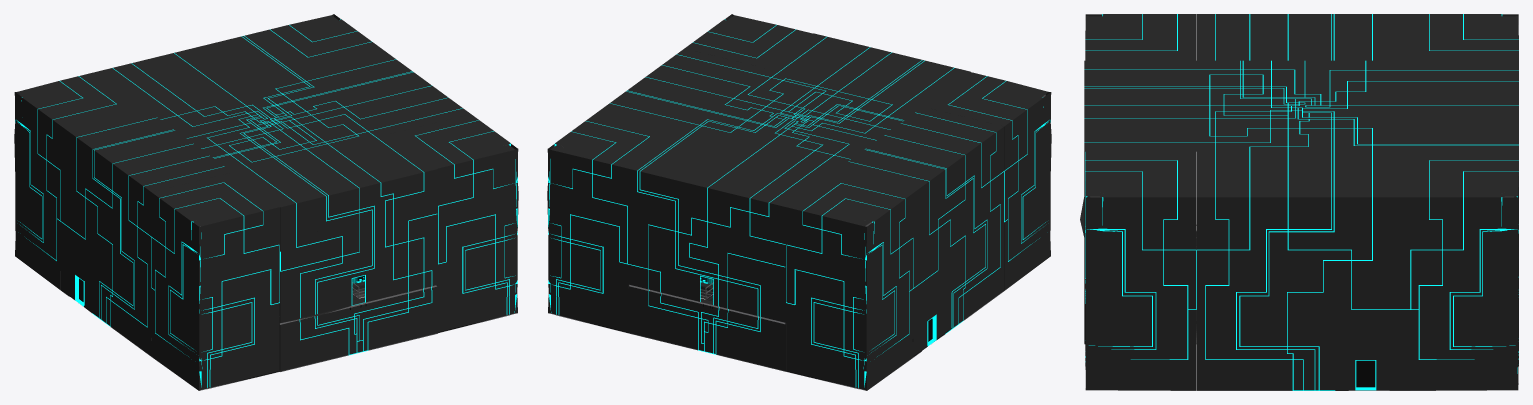
The model's file is level3.glb.
3 renders of one model, left to right at view 1: azimuth 30°, elevation 25°; view 2: azimuth 150°, elevation 25°; view 3: azimuth 270°, elevation 25°, orthographic. The views are drawn at different scales.
Visible parts, largest first — view 1: Reaktor_6:Mesh, Reaktor_1:Mesh_Reaktor_1:palette1_0.001, Reaktor_7:Mesh_Reaktor_7:palette1_0.001, Reaktor_1:Mesh_Reaktor_1:palette1_0.002, Reaktor_8:Mesh, Reaktor_1:Mesh_Reaktor_1:palette1_0.003, Reaktor_7:Mesh, Reaktor_9:Mesh, Reaktor_1:Mesh; view 2: Reaktor_9:Mesh, Reaktor_1:Mesh_Reaktor_1:palette1_0.003, Reaktor_7:Mesh_Reaktor_7:palette1_0.001, Reaktor_1:Mesh, Reaktor_8:Mesh, Reaktor_1:Mesh_Reaktor_1:palette1_0.001, Reaktor_6:Mesh, Reaktor_7:Mesh, Reaktor_1:Mesh_Reaktor_1:palette1_0.002; view 3: Reaktor_7:Mesh, Reaktor_1:Mesh_Reaktor_1:palette1_0.002, Reaktor_1:Mesh, Reaktor_8:Mesh, Reaktor_6:Mesh, Reaktor_7:Mesh_Reaktor_7:palette1_0.001, Reaktor_9:Mesh, Reaktor_1:Mesh_Reaktor_1:palette1_0.001, Reaktor_1:Mesh_Reaktor_1:palette1_0.003.
Boxes of the visible parts, box(x1,y1,x2,y2) form: Reaktor_6:Mesh: box(233, 134, 437, 371); Reaktor_1:Mesh_Reaktor_1:palette1_0.001: box(151, 172, 279, 390); Reaktor_7:Mesh_Reaktor_7:palette1_0.001: box(60, 106, 231, 356); Reaktor_1:Mesh_Reaktor_1:palette1_0.002: box(390, 114, 518, 333); Reaktor_8:Mesh: box(142, 67, 389, 287); Reaktor_1:Mesh_Reaktor_1:palette1_0.003: box(14, 72, 141, 289); Reaktor_7:Mesh: box(299, 47, 470, 133); Reaktor_9:Mesh: box(96, 33, 298, 222); Reaktor_1:Mesh: box(253, 14, 379, 67); Reaktor_9:Mesh: box(628, 135, 831, 371); Reaktor_1:Mesh_Reaktor_1:palette1_0.003: box(786, 173, 913, 390); Reaktor_7:Mesh_Reaktor_7:palette1_0.001: box(832, 107, 1003, 357); Reaktor_1:Mesh: box(547, 115, 673, 333); Reaktor_8:Mesh: box(675, 68, 922, 284); Reaktor_1:Mesh_Reaktor_1:palette1_0.001: box(923, 72, 1051, 290); Reaktor_6:Mesh: box(766, 33, 970, 106); Reaktor_7:Mesh: box(594, 48, 764, 134); Reaktor_1:Mesh_Reaktor_1:palette1_0.002: box(684, 14, 812, 68); Reaktor_7:Mesh: box(1197, 151, 1410, 390); Reaktor_1:Mesh_Reaktor_1:palette1_0.002: box(1085, 151, 1196, 390); Reaktor_1:Mesh: box(1410, 151, 1518, 390); Reaktor_8:Mesh: box(1197, 60, 1410, 150); Reaktor_6:Mesh: box(1080, 60, 1196, 344); Reaktor_7:Mesh_Reaktor_7:palette1_0.001: box(1197, 14, 1410, 60); Reaktor_9:Mesh: box(1410, 60, 1518, 197); Reaktor_1:Mesh_Reaktor_1:palette1_0.001: box(1085, 14, 1196, 196); Reaktor_1:Mesh_Reaktor_1:palette1_0.003: box(1410, 14, 1518, 196).
Bounding box in the file's own units: 17.67 × 8.7 × 17.87.
Materials: 9 (9 with a texture image).
